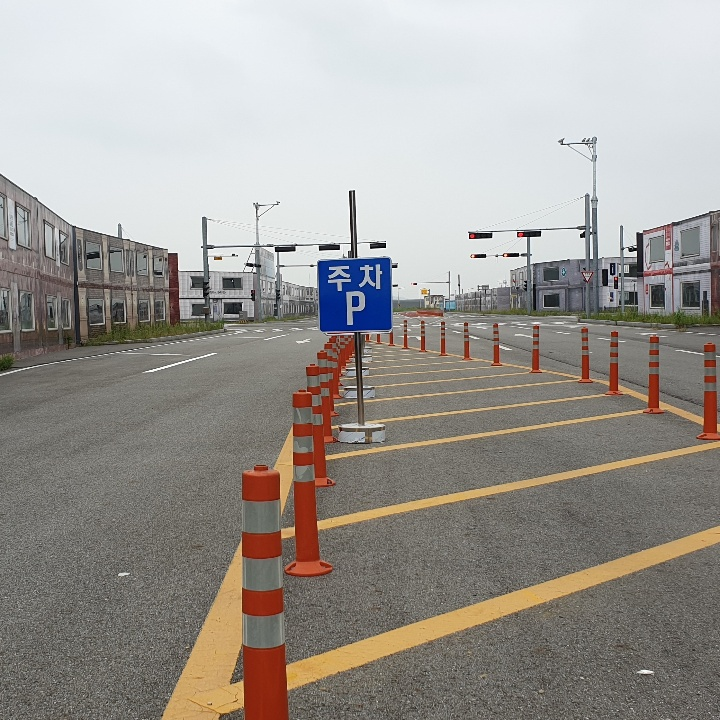parking: (341, 285, 369, 333)
